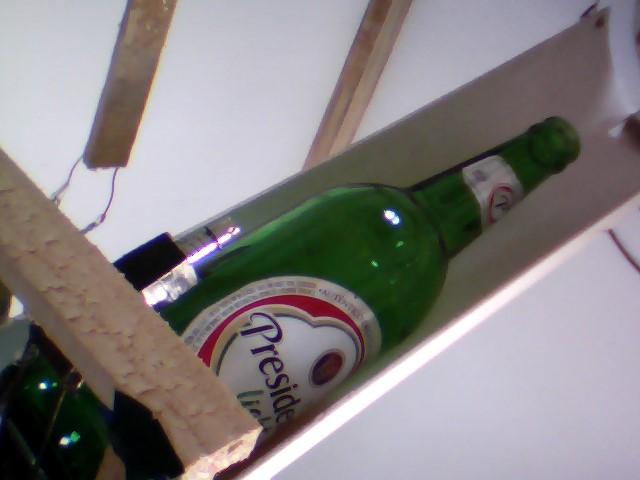vidrio: (197, 110, 588, 443)
